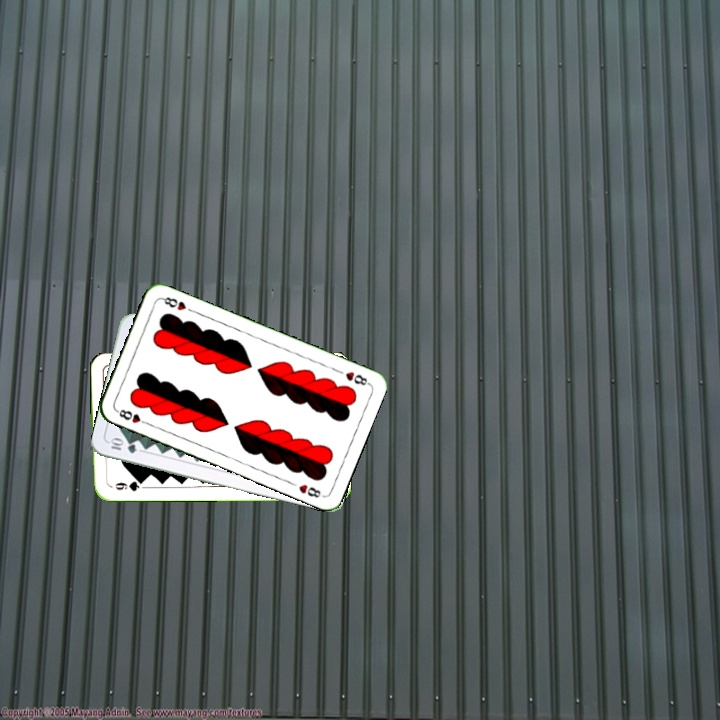G10: (106, 435, 139, 456)
G9: (106, 477, 146, 493)
H8: (112, 405, 151, 427), (341, 367, 372, 388)
